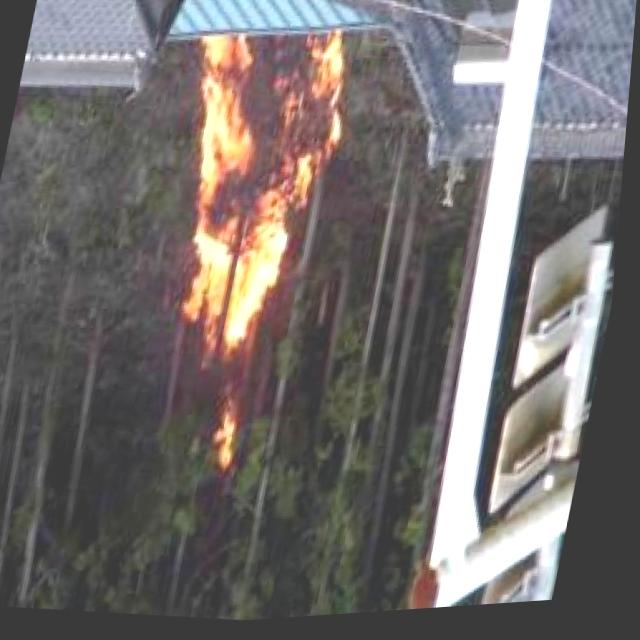helmet: (144, 23, 362, 387), (211, 384, 256, 479)
